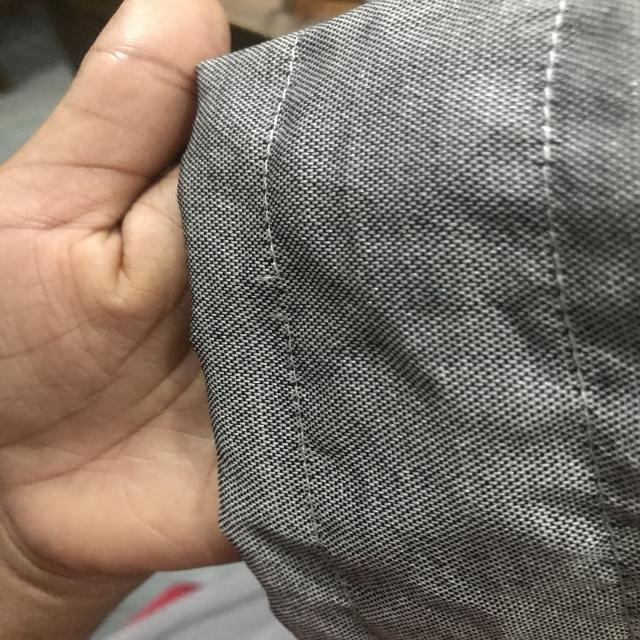broken: (238, 272, 324, 334)
